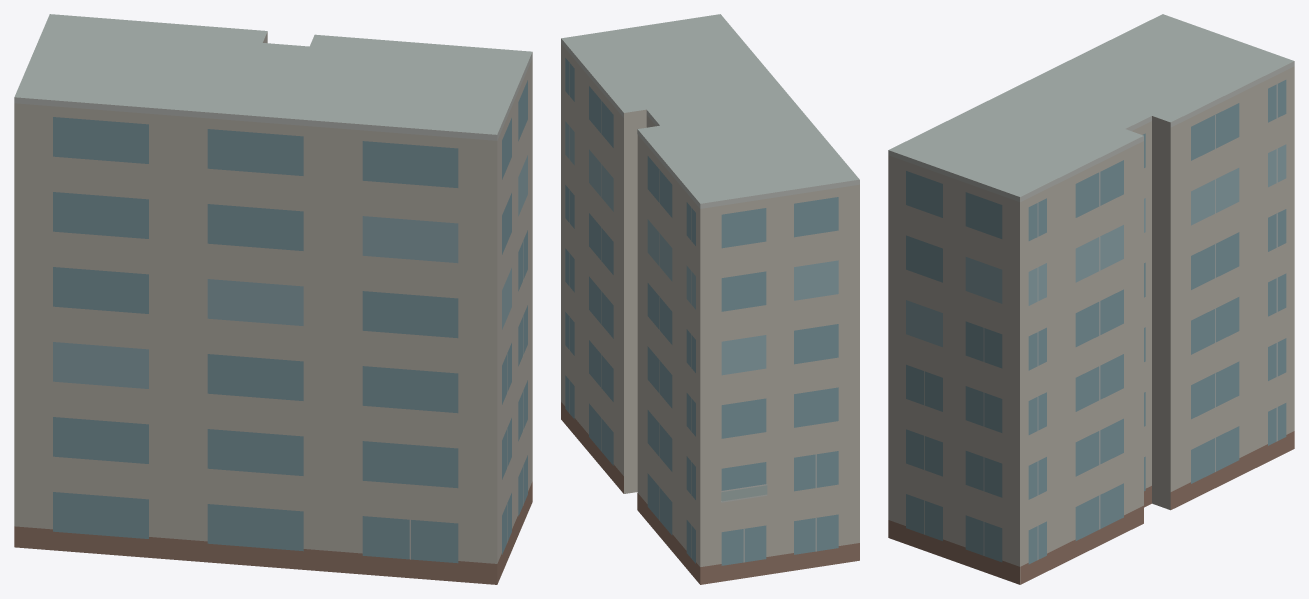
Rendered from survey-upis-32946717.glb.
3 renders of one model, left to right at view 1: azimuth 30°, elevation 25°; view 2: azimuth 150°, elevation 25°; view 3: azimuth 270°, elevation 25°, orthographic. The views are drawn at different scales.
Parts seen in each view (by area): view 1: survey-upis-32946717.tmp; view 2: survey-upis-32946717.tmp; view 3: survey-upis-32946717.tmp.
Boxes of the visible parts, bbox=[...] form: survey-upis-32946717.tmp: bbox=[14, 14, 532, 584]; survey-upis-32946717.tmp: bbox=[561, 14, 859, 584]; survey-upis-32946717.tmp: bbox=[888, 14, 1294, 584].
Bounding box in the file's own units: 18.54 × 18.3 × 17.38.
